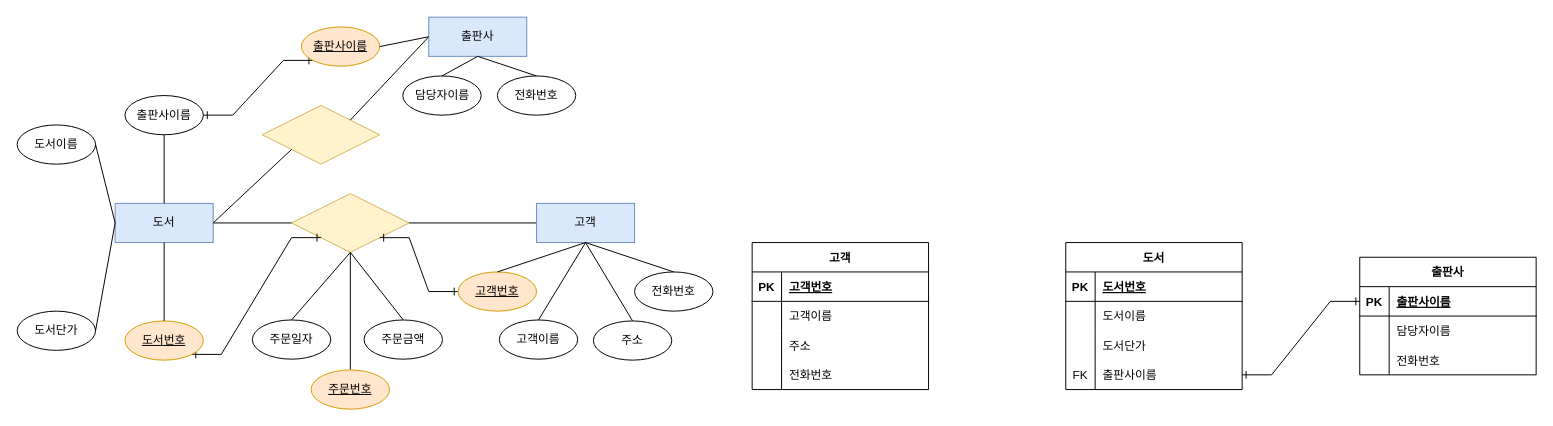
The diagram is 1553 pixels wide and 426 high, and some of its shapes have lost their labels. The shapes that lost their labels are listed below. From the top down, each one's centre as x and y in pixels, then its label:
the point at 320,134: 유통
the point at 350,222: 주문
